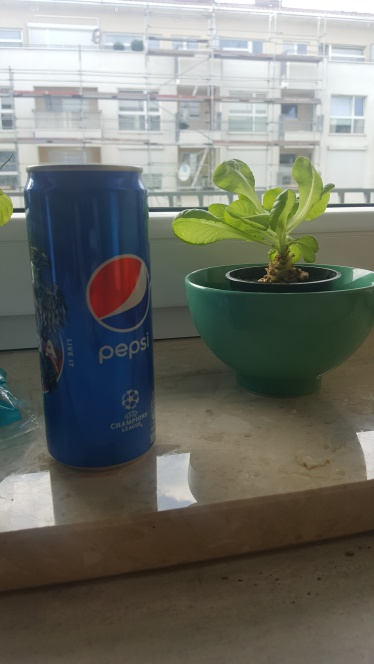pepsi: (22, 152, 167, 475)
